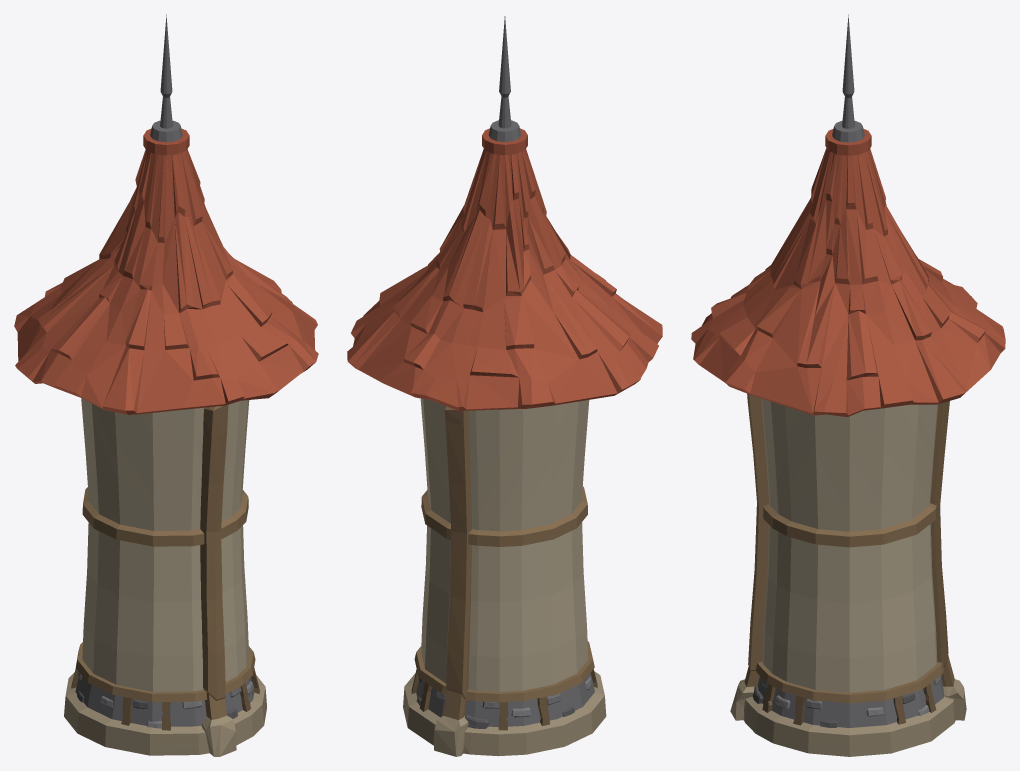
File: SM_Bld_House_Tower_01.gltf
The picture shows the model from 3 angles, left to right: view 1: azimuth 30°, elevation 25°; view 2: azimuth 150°, elevation 25°; view 3: azimuth 270°, elevation 25°; orthographic projection.
Parts seen in each view (by area): view 1: SM_Bld_House_Tower_01; view 2: SM_Bld_House_Tower_01; view 3: SM_Bld_House_Tower_01.
Boxes of the visible parts, x1,y1,x2,y2 form: SM_Bld_House_Tower_01: (14, 14, 318, 756); SM_Bld_House_Tower_01: (347, 16, 662, 756); SM_Bld_House_Tower_01: (691, 14, 1005, 756).
Size of the model in its own units: 3.07 by 7.44 by 3.03.
1 material, 1 textured.
